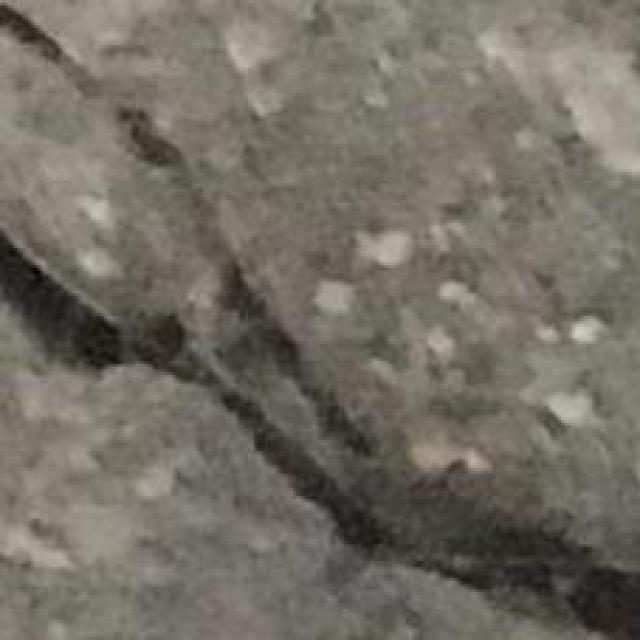Crack: (0, 223, 637, 637), (0, 0, 178, 172)
